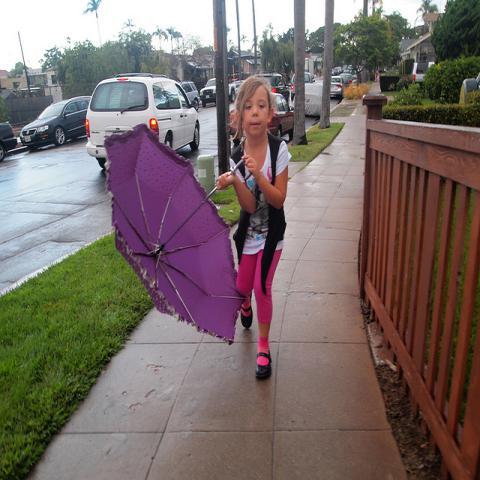car: (85, 72, 200, 168), (19, 96, 91, 152), (267, 92, 294, 140), (254, 72, 290, 103), (291, 71, 315, 102), (0, 122, 18, 163), (305, 80, 324, 115), (178, 80, 200, 110), (411, 61, 435, 88), (199, 77, 216, 108), (330, 76, 346, 100), (339, 73, 352, 85)
